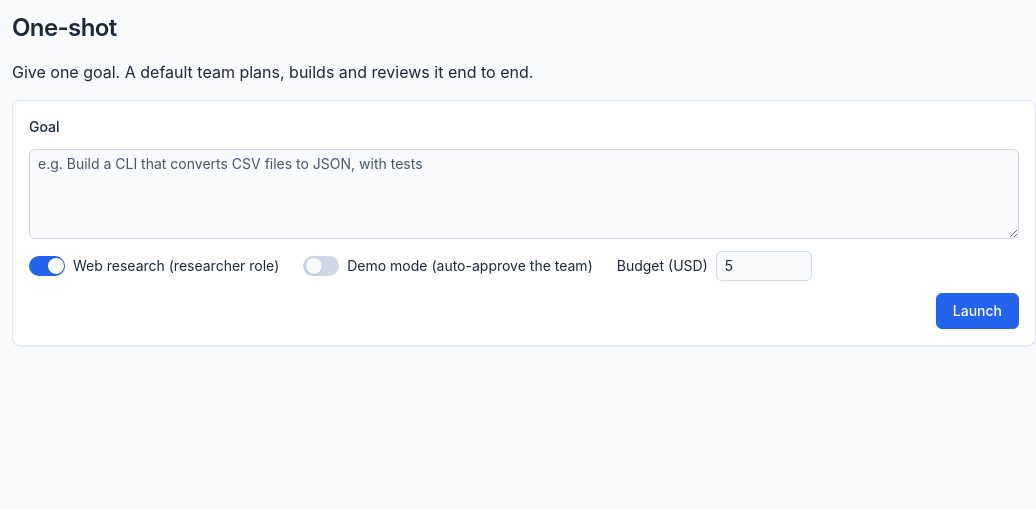
Test: OneShotLauncher › shows server errors
Type "x" into the text box labelled "Goal".
click(524, 194); type("x")  # box [29,149,1019,239]
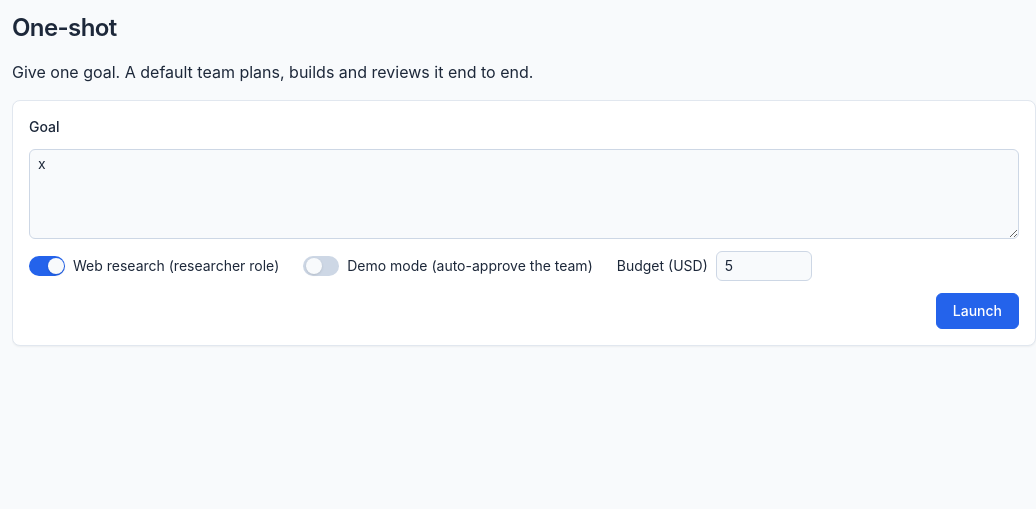
Click the button "Launch".
click(977, 311)  # box [936,293,1019,329]
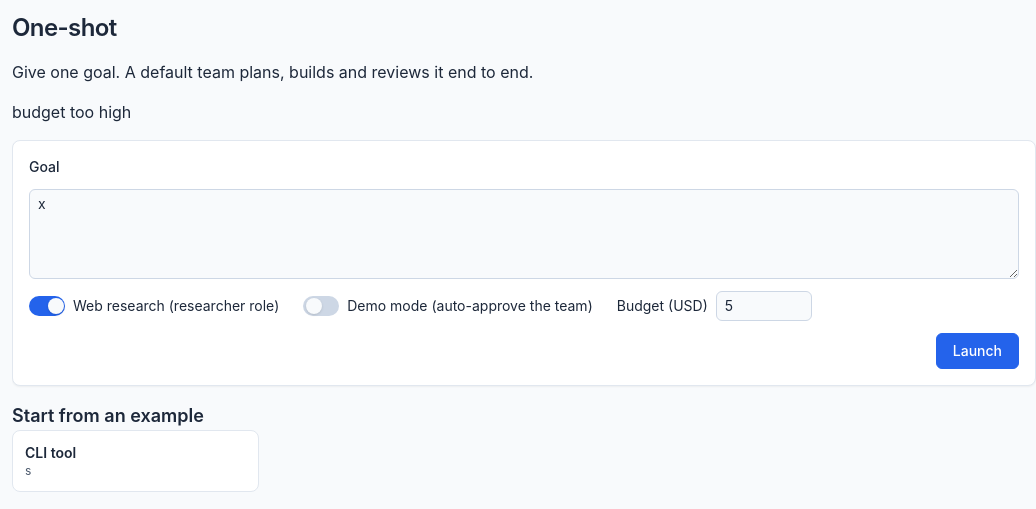
Expected: the message reads "budget too high", [12,102,131,122]
